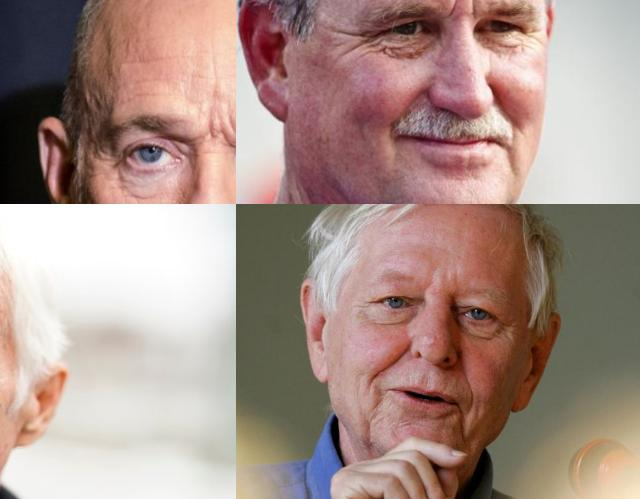chin: (397, 414, 435, 432)
crows_feet: (336, 24, 379, 58), (94, 142, 125, 171), (518, 22, 544, 44), (494, 318, 514, 340), (353, 296, 375, 312)
forehead: (124, 48, 166, 68), (204, 56, 224, 94)
frown_line: (194, 115, 236, 147), (446, 0, 463, 20), (420, 278, 434, 300), (467, 0, 480, 21), (450, 268, 460, 290)
gummy_smile: (374, 341, 408, 378), (453, 345, 475, 393)
sad_smile: (453, 408, 473, 452), (368, 393, 388, 424)
